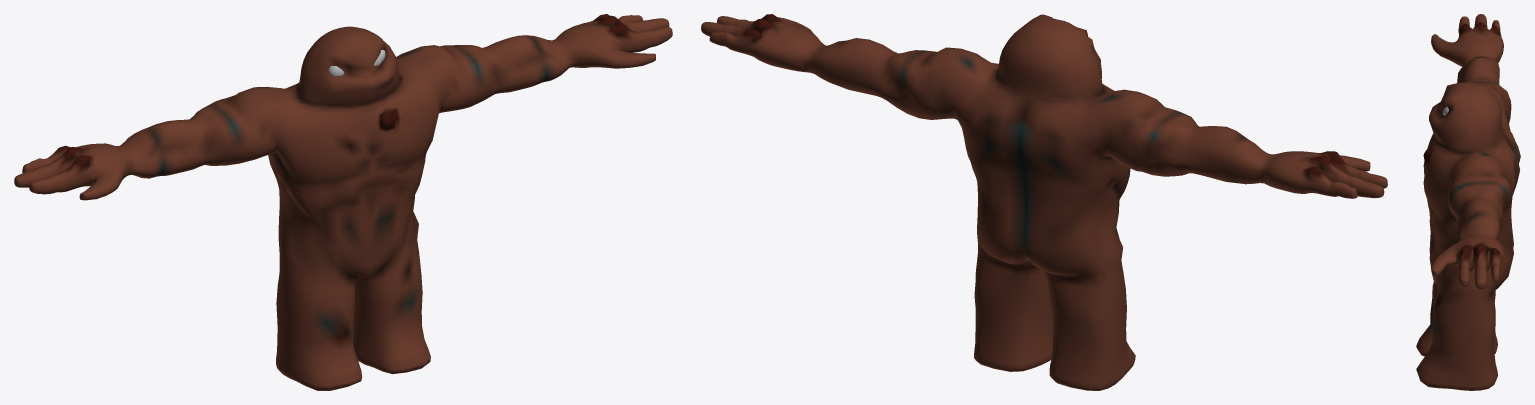
The model's file is geoFull.fbx.
3 renders of one model, left to right at view 1: azimuth 30°, elevation 25°; view 2: azimuth 150°, elevation 25°; view 3: azimuth 270°, elevation 25°, orthographic. The views are drawn at different scales.
Parts seen in each view (by area): view 1: geoBasemesh; view 2: geoBasemesh; view 3: geoBasemesh.
Boxes of the visible parts, x1=… form: geoBasemesh: x1=14, y1=14, x2=672, y2=390; geoBasemesh: x1=701, y1=14, x2=1387, y2=390; geoBasemesh: x1=1416, y1=14, x2=1520, y2=390.
Size of the model in its own units: 5.82 by 2.81 by 0.9578.
